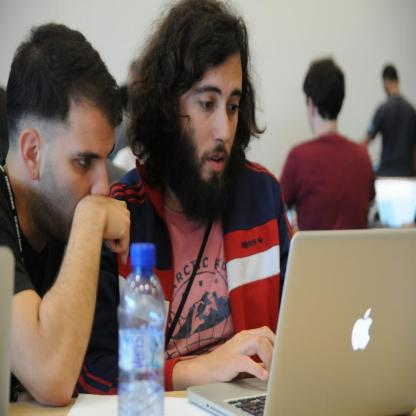board: (186, 228, 414, 416), (117, 241, 164, 416)
